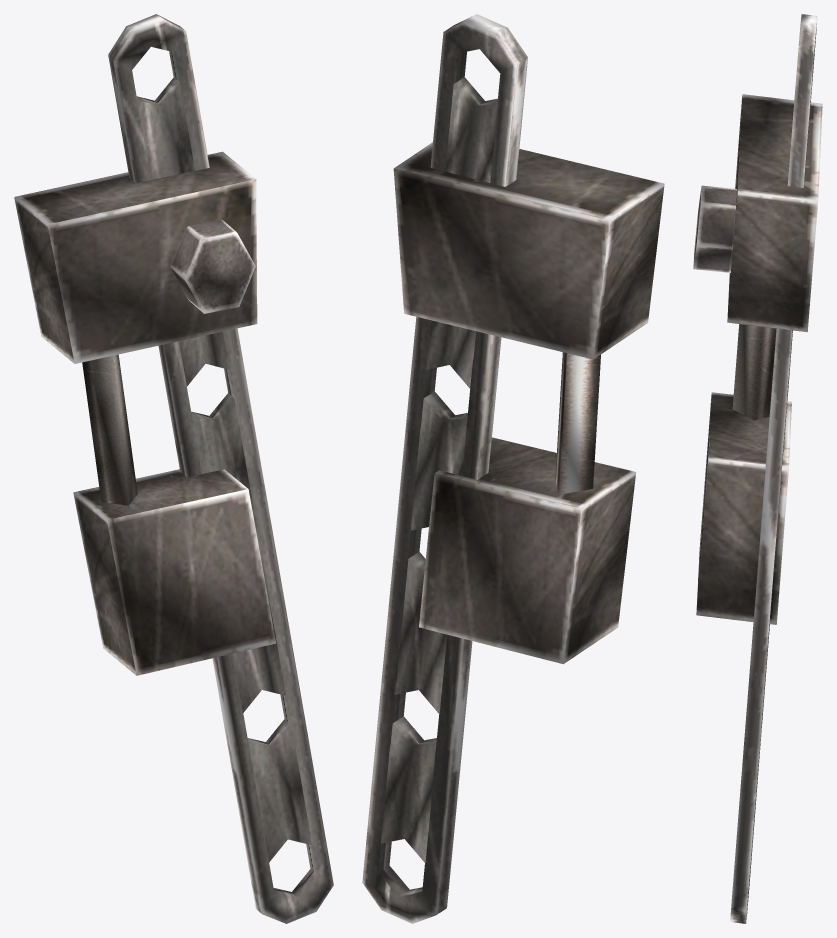
File: Robot01.RightHip3.fbx
3 views of the same model, side by side, from view 1: azimuth 30°, elevation 25°; view 2: azimuth 150°, elevation 25°; view 3: azimuth 270°, elevation 25° (orthographic). The views are drawn at different scales.
Visible parts, largest first — view 1: mesh_1210.001; view 2: mesh_1210.001; view 3: mesh_1210.001.
Part boxes in pixels (left/top/right/bottom): mesh_1210.001: left=14, top=14, right=333, bottom=923; mesh_1210.001: left=362, top=14, right=664, bottom=923; mesh_1210.001: left=693, top=14, right=822, bottom=923.
Size of the model in its own units: 34.85 by 106 by 14.61.
